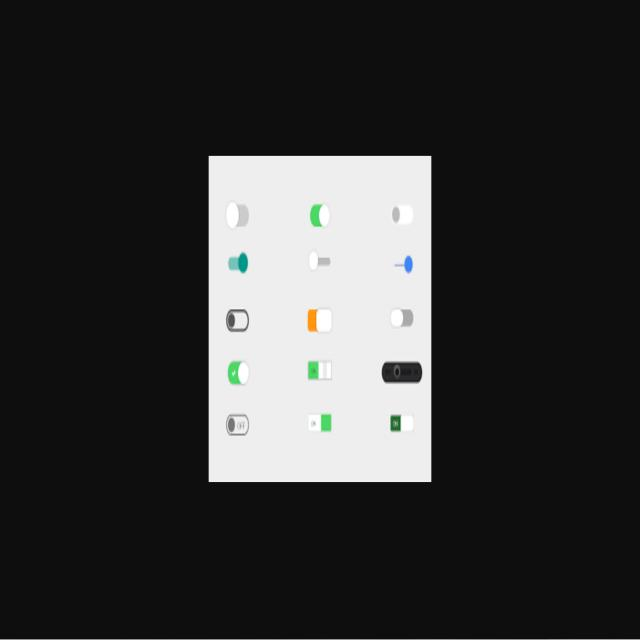toggle: (307, 306, 333, 335), (225, 200, 250, 229), (226, 358, 251, 387), (224, 410, 250, 437), (226, 306, 251, 334), (390, 202, 416, 227), (308, 251, 334, 275), (389, 305, 415, 329), (310, 201, 331, 230), (227, 248, 250, 274)
